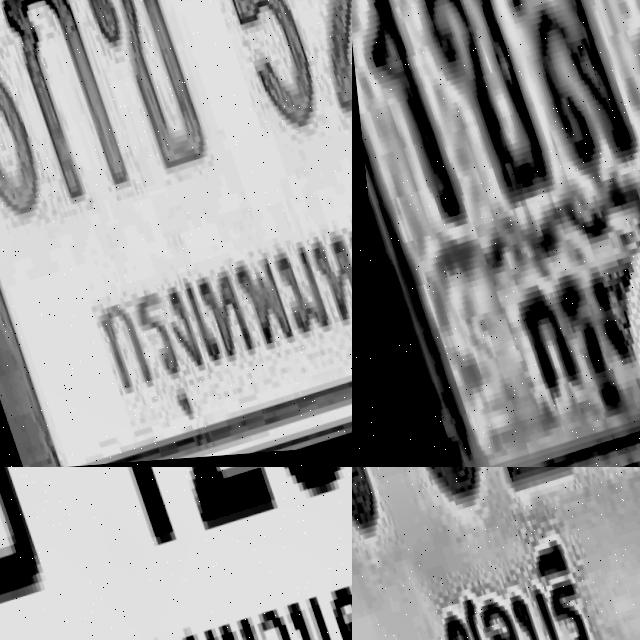license-plate: (0, 0, 352, 467), (352, 0, 640, 467), (0, 467, 352, 640), (352, 467, 640, 640)
